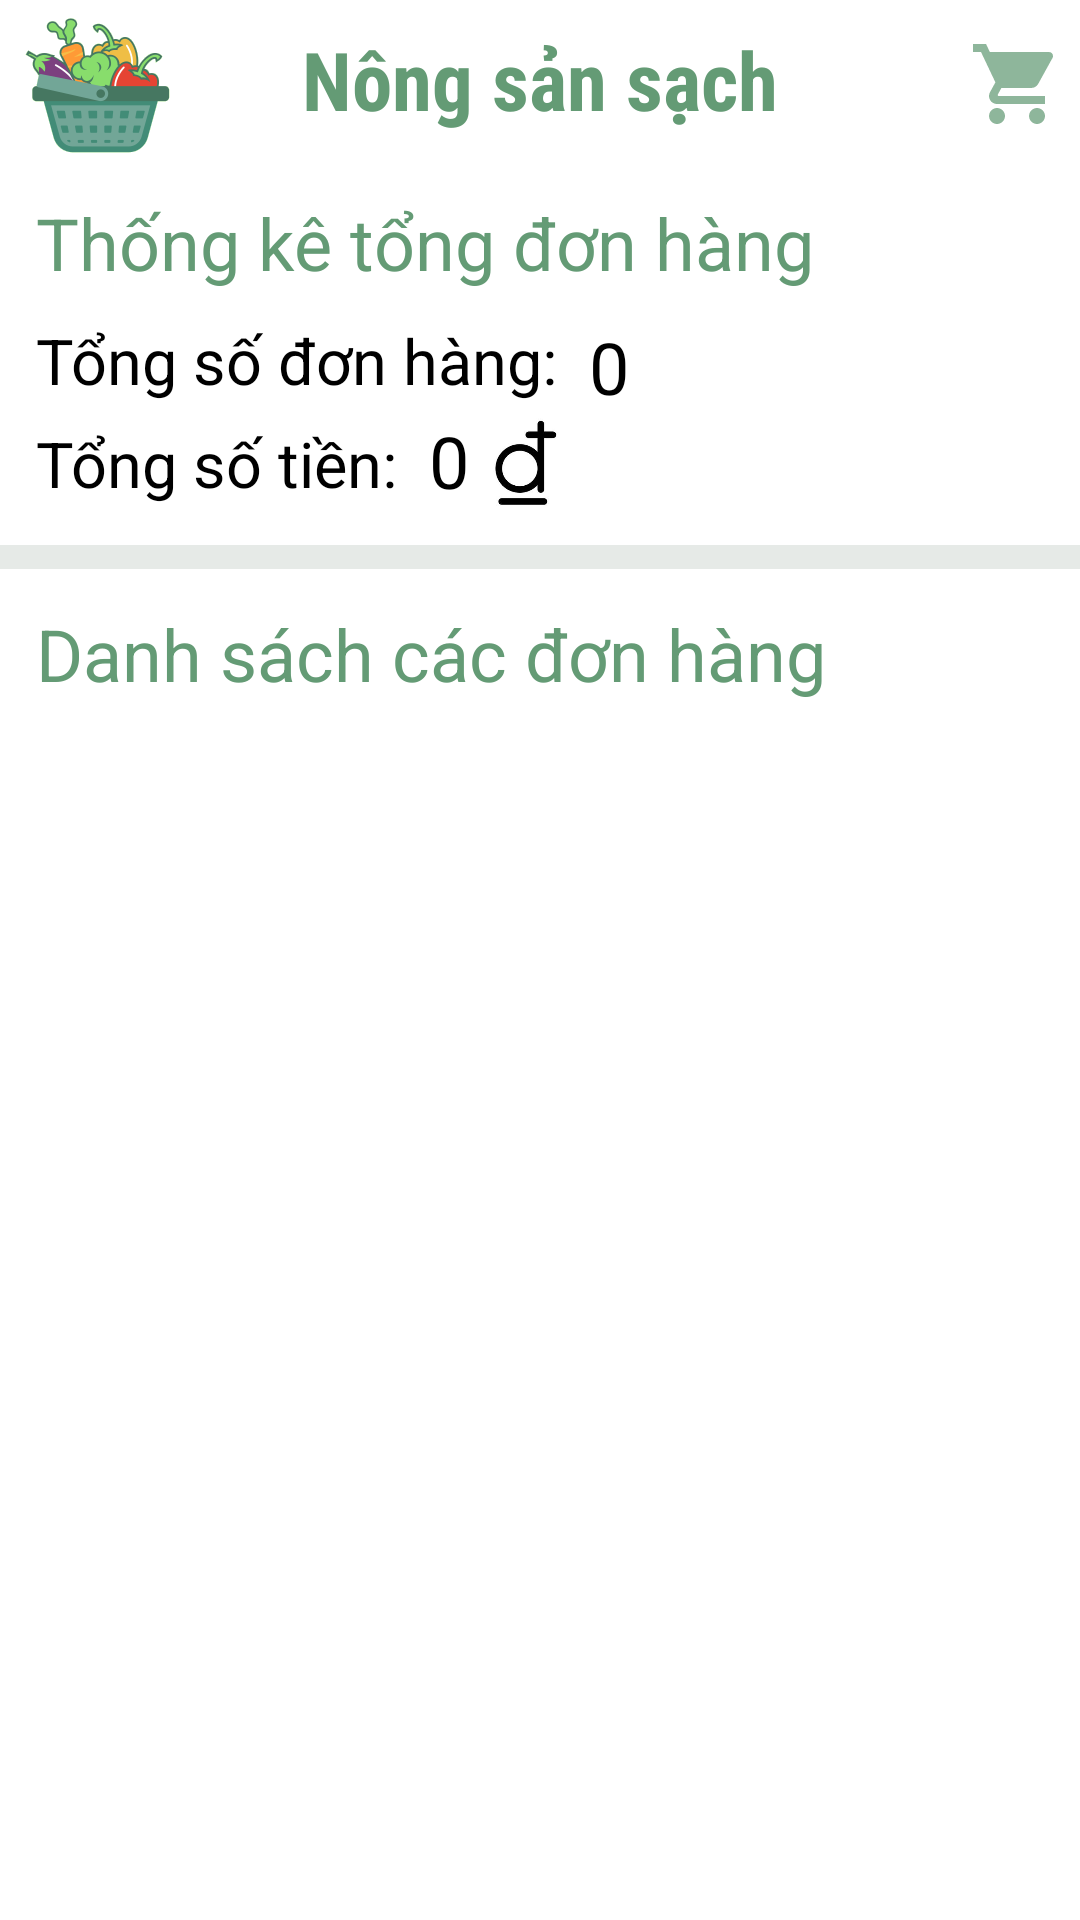

Icon bounding boxes for this 1080×1920 phone screenshot, format [x1, y1, x2, y2]:
cart home: [973, 44, 1053, 124]
